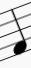F: (9, 7, 28, 57)
